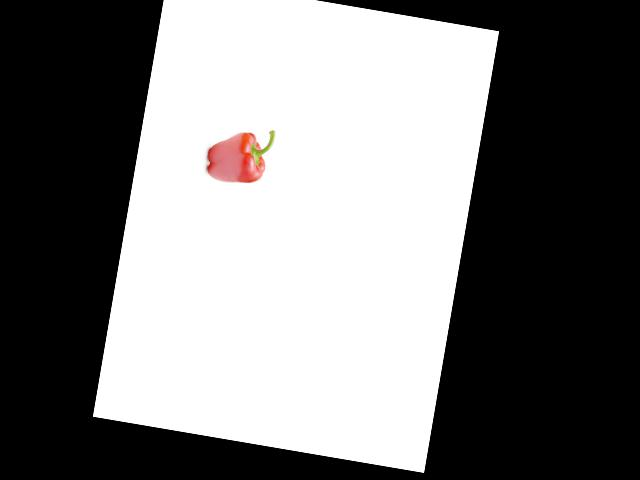bell_pepper: (198, 117, 279, 192)
